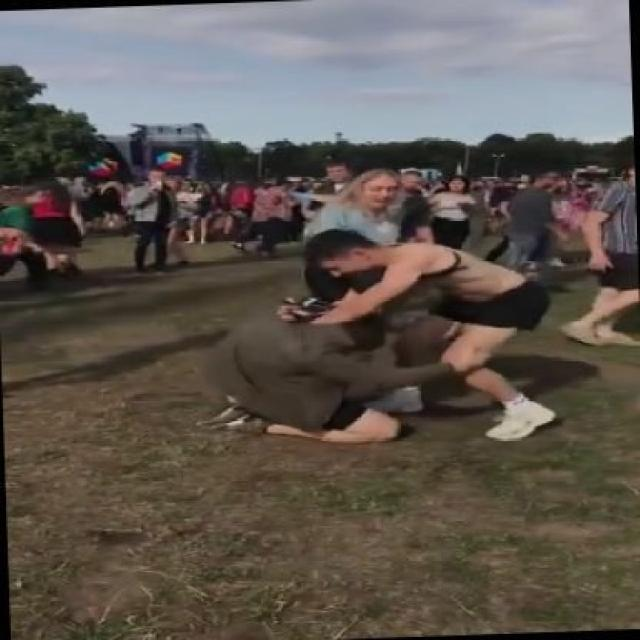fight: (191, 222, 560, 447)
